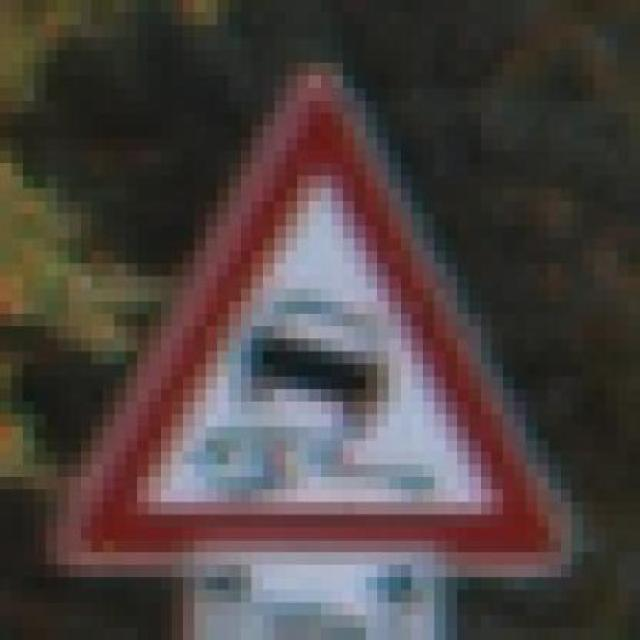Slippery Road Ahead: (57, 62, 594, 578)
